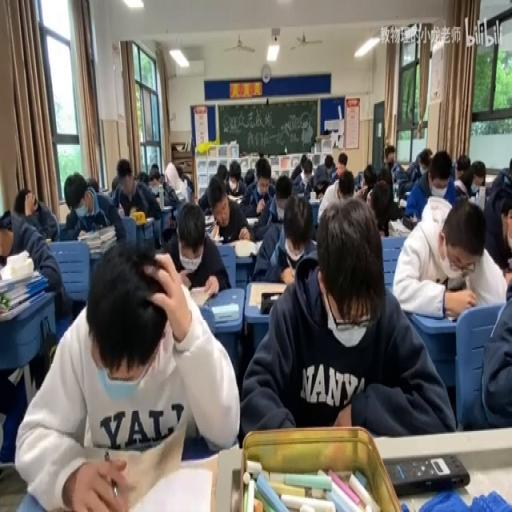calculator: (125, 462, 215, 509), (246, 282, 286, 308), (189, 282, 215, 307), (230, 238, 260, 256), (210, 302, 238, 320), (90, 240, 114, 258), (389, 218, 411, 236), (7, 364, 24, 384), (475, 184, 485, 209), (204, 216, 214, 235), (148, 182, 161, 195), (226, 192, 242, 202), (158, 202, 173, 212), (246, 214, 258, 224), (174, 189, 185, 199), (310, 195, 320, 205), (142, 216, 153, 223), (98, 185, 107, 192), (45, 235, 51, 243), (404, 190, 410, 198)
paper: (19, 239, 237, 509), (238, 194, 448, 436), (4, 195, 71, 320), (469, 256, 511, 432), (164, 198, 230, 293), (62, 170, 123, 244), (112, 159, 161, 228), (483, 161, 512, 269), (248, 166, 283, 236), (397, 148, 427, 199), (309, 154, 335, 198), (154, 164, 179, 206), (290, 155, 312, 195), (354, 164, 376, 200), (12, 186, 34, 215), (374, 165, 393, 195), (338, 168, 354, 198), (470, 160, 484, 190), (214, 162, 228, 188), (456, 154, 470, 179), (147, 160, 160, 184), (390, 159, 404, 181), (0, 208, 11, 230), (337, 150, 347, 174), (86, 174, 99, 192), (384, 145, 395, 166), (229, 164, 239, 186), (184, 181, 194, 202), (136, 170, 149, 184), (244, 168, 254, 185), (110, 174, 120, 190), (174, 165, 184, 181), (422, 148, 431, 163), (509, 158, 512, 176)
person: (386, 452, 470, 494), (134, 258, 168, 298), (168, 215, 175, 226)
